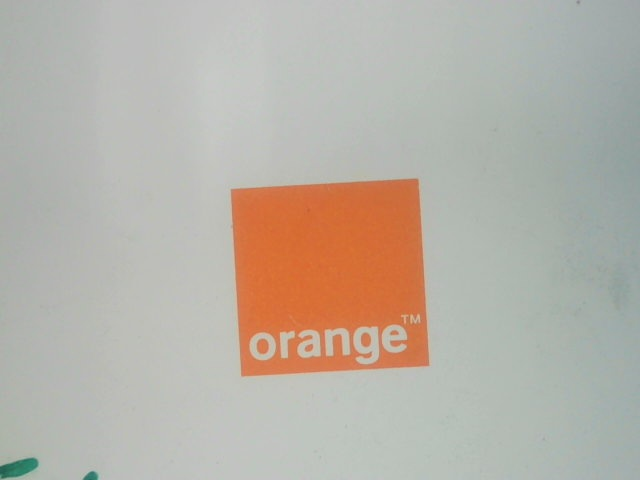AR_Orange: (214, 177, 437, 378)
